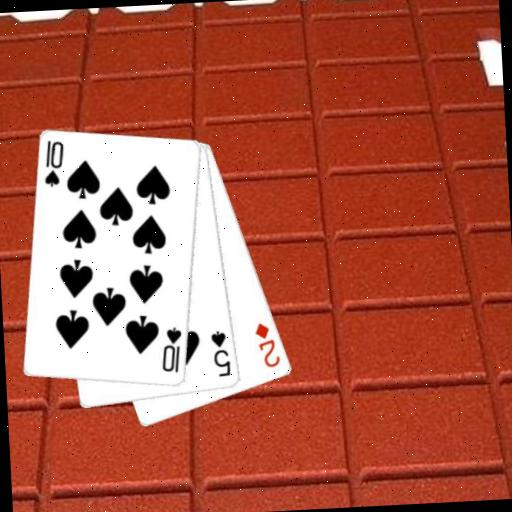10S: (158, 324, 187, 376), (39, 138, 68, 190)
2D: (252, 319, 283, 370)
5S: (208, 328, 234, 380)
